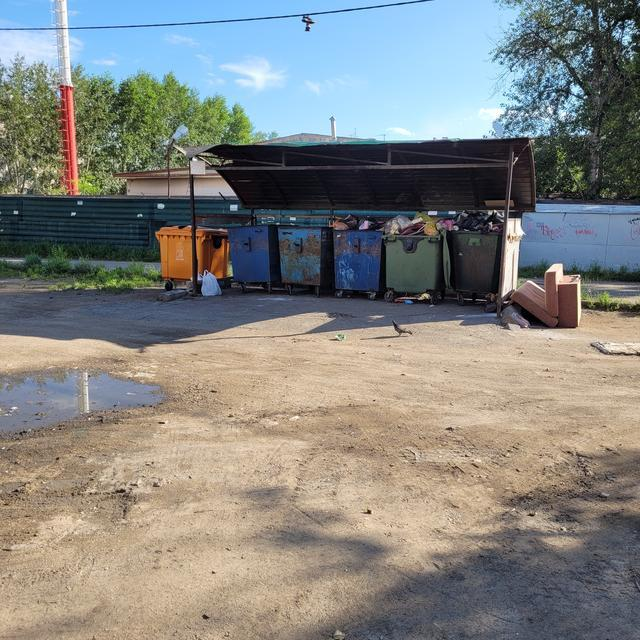Trash_Can_Closed: (155, 225, 229, 282)
Trash_Can_Empty: (277, 223, 332, 287), (227, 223, 282, 284)
Trash_Can_Full: (382, 211, 444, 293), (448, 210, 504, 293), (331, 214, 384, 291)
